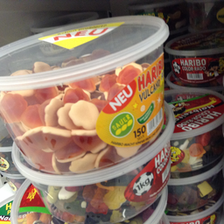candy: (1, 11, 170, 175), (14, 154, 170, 222)
